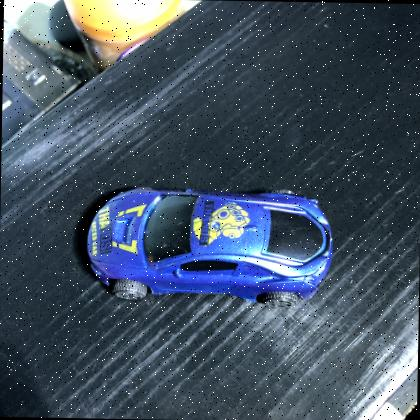Car: (78, 174, 336, 316)
